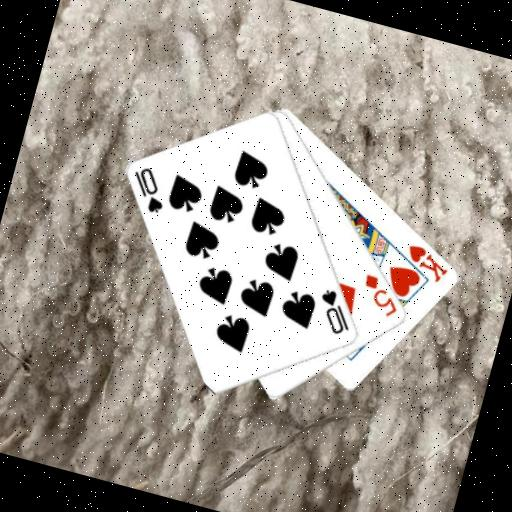10S: (123, 160, 174, 216), (309, 284, 360, 339)
5D: (354, 269, 407, 321)
KH: (398, 239, 455, 286)
